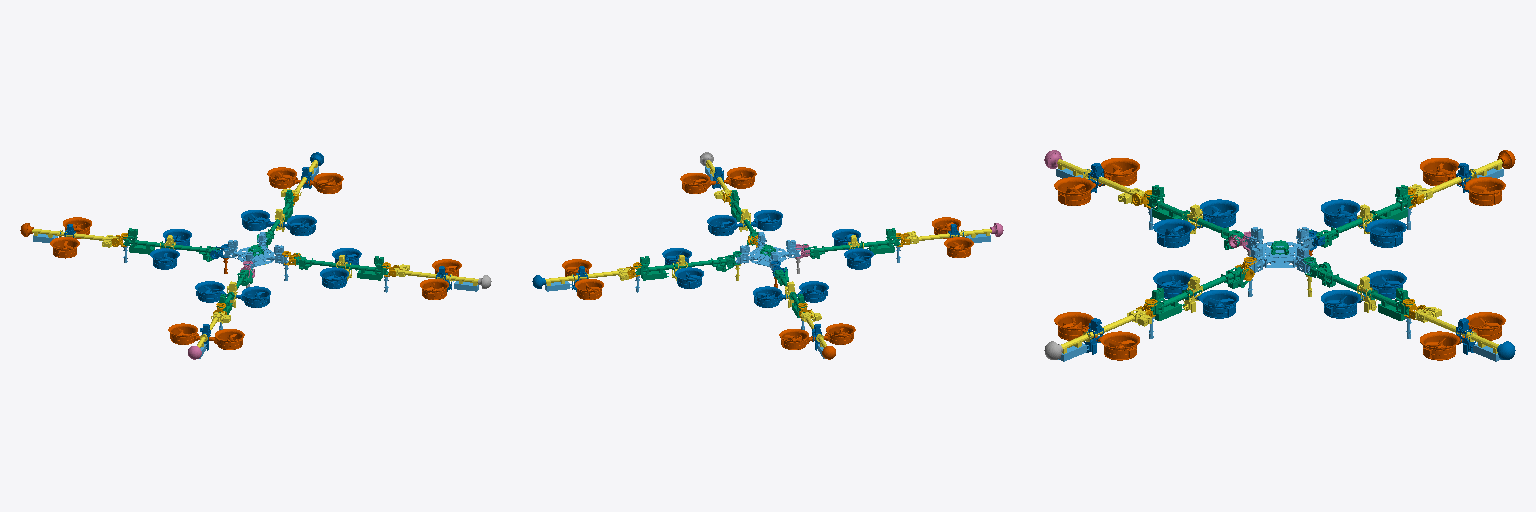
--- What the picture shows (computed from the rendered views, not written in the file) ---
3 views of the same robot in one strip: view 1: azimuth 30°, elevation 25°; view 2: azimuth 150°, elevation 25°; view 3: azimuth 270°, elevation 25° (orthographic).
Model spidar with 80 links and 79 joints (16 revolute, 24 continuous, 39 fixed), rooted at root, posed every joint at zero.
Visible links, largest first — view 1: gimbal2_pitch_module, gimbal1_pitch_module, gimbal6_pitch_module, gimbal5_pitch_module, center_link, gimbal4_pitch_module, gimbal7_pitch_module, gimbal3_pitch_module, gimbal8_pitch_module, link3, link7; view 2: gimbal8_pitch_module, gimbal7_pitch_module, gimbal4_pitch_module, gimbal3_pitch_module, center_link, gimbal6_pitch_module, gimbal1_pitch_module, gimbal5_pitch_module, gimbal2_pitch_module, link1, link5; view 3: gimbal3_pitch_module, gimbal5_pitch_module, gimbal4_pitch_module, gimbal6_pitch_module, center_link, gimbal2_pitch_module, gimbal8_pitch_module, gimbal1_pitch_module, gimbal7_pitch_module, link7, link1, link5 (+5 smaller).
Boxes of the visible links, x1=… form: gimbal2_pitch_module: x1=267, y1=167, x2=343, y2=193; gimbal1_pitch_module: x1=241, y1=210, x2=316, y2=235; gimbal6_pitch_module: x1=168, y1=323, x2=244, y2=349; gimbal5_pitch_module: x1=195, y1=281, x2=270, y2=307; center_link: x1=222, y1=232, x2=288, y2=268; gimbal4_pitch_module: x1=50, y1=217, x2=91, y2=258; gimbal7_pitch_module: x1=320, y1=248, x2=361, y2=288; gimbal3_pitch_module: x1=150, y1=229, x2=191, y2=269; gimbal8_pitch_module: x1=420, y1=259, x2=461, y2=299; link3: x1=123, y1=228, x2=219, y2=261; link7: x1=293, y1=253, x2=388, y2=274; gimbal8_pitch_module: x1=680, y1=167, x2=756, y2=193; gimbal7_pitch_module: x1=707, y1=210, x2=782, y2=235; gimbal4_pitch_module: x1=779, y1=323, x2=855, y2=349; gimbal3_pitch_module: x1=753, y1=281, x2=828, y2=307; center_link: x1=735, y1=232, x2=801, y2=270; gimbal6_pitch_module: x1=932, y1=217, x2=973, y2=257; gimbal1_pitch_module: x1=662, y1=248, x2=703, y2=288; gimbal5_pitch_module: x1=832, y1=229, x2=873, y2=269; gimbal2_pitch_module: x1=562, y1=259, x2=603, y2=299; link1: x1=635, y1=256, x2=732, y2=274; link5: x1=802, y1=228, x2=900, y2=258; gimbal3_pitch_module: x1=1321, y1=199, x2=1406, y2=247; gimbal5_pitch_module: x1=1153, y1=199, x2=1238, y2=247; gimbal4_pitch_module: x1=1420, y1=158, x2=1505, y2=205; gimbal6_pitch_module: x1=1054, y1=158, x2=1139, y2=205; center_link: x1=1245, y1=227, x2=1315, y2=273; gimbal2_pitch_module: x1=1420, y1=312, x2=1505, y2=360; gimbal8_pitch_module: x1=1054, y1=312, x2=1139, y2=360; gimbal1_pitch_module: x1=1321, y1=270, x2=1406, y2=318; gimbal7_pitch_module: x1=1153, y1=270, x2=1238, y2=318; link7: x1=1145, y1=267, x2=1248, y2=314; link1: x1=1313, y1=263, x2=1414, y2=315; link5: x1=1146, y1=185, x2=1245, y2=249.
Bounding box of the posed robot: 1.93 × 1.93 × 0.2101 m (x, y, z).
54 mesh visuals loaded from 11 distinct referenced files (11 binary STL).

robot.urdf — spidar:
<?xml version="1.0" ?>
<robot name="spidar">
   ### [N]
    ### [N]
    ### [N]
  <baselink name="fc"/>
  <thrust_link name="thrust"/>
  <m_f_rate value="0"/>
  #### CENTER LINK ####
  #### LINK ####
    #### dummy root link for KDL ####
  <link name="root">
    <inertial>
      <mass value="0.00001"/>
      <origin rpy="0 0 0" xyz="0 0 0"/>
      <inertia ixx="0.000001" ixy="0.0" ixz="0.0" iyy="0.000001" iyz="0.0" izz="0.000001"/>
    </inertial>
  </link>
  <joint name="root_joint" type="fixed">
    <parent link="root"/>
    <child link="center_link"/>
    <origin rpy="0 0 0" xyz="0 0 0"/>
    <axis xyz="0 0 1"/>
  </joint>
    #### link ####
  <link name="center_link">
    <inertial>
      <mass value="1.1780349"/>
      <origin rpy="0 0 0" xyz="0.0 0.0 0.027"/>
      <inertia ixx="0.009512" ixy="0.000000" ixz="0.000000" iyy="0.009512" iyz="0.000000" izz="0.017150"/>
    </inertial>
    <visual>
      <origin rpy="0 0 0" xyz="0 0 0"/>
      <geometry>
        <mesh filename="center_link.stl"/>
      </geometry>
    </visual>
    <collision name="center_link">
      <origin rpy="0 0 0" xyz="0 0 0"/>
      <geometry>
        <mesh filename="center_link.stl"/>
      </geometry>
    </collision>
  </link>
  <gazebo reference="center_link">
    <mu1>0.2</mu1>
    <mu2>0.2</mu2>
  </gazebo>
  <gazebo reference="center_link">
    <dampingFactor>0.00</dampingFactor>
  </gazebo>
  <link name="joint_junction_link1">
    <inertial>
      <mass value="0.103"/>
      <origin rpy="0 0 0" xyz="0.028 0.007 0.003"/>
      <inertia ixx="0.000087" ixy="0.000016" ixz="-0.000010" iyy="0.000087" iyz="-0.000002" izz="0.000096"/>
    </inertial>
    <visual>
      <origin rpy="0 0 0" xyz="0 0 0"/>
      <geometry>
        <mesh filename="joint_junction_link_large_pitch_pulley.stl"/>
      </geometry>
    </visual>
    <collision name="joint_junction_link1">
      <origin rpy="0 0 0" xyz="0 0 0"/>
      <geometry>
        <mesh filename="joint_junction_link_large_pitch_pulley.stl"/>
      </geometry>
    </collision>
  </link>
  <gazebo reference="joint_junction_link1">
    <mu1>0.2</mu1>
    <mu2>0.2</mu2>
  </gazebo>
  <gazebo reference="joint_junction_link1">
    <dampingFactor>0.00</dampingFactor>
  </gazebo>
  <joint name="joint1_pitch" type="revolute">
    <limit effort="6.6" lower="-1.9107963267948966" upper="1.9107963267948966" velocity="0.1"/>
    <parent link="joint_junction_link1"/>
    <child link="link1"/>
    <origin rpy="0 0 0" xyz="0.0515 0.0 0.0"/>
    <axis xyz="0 1 0"/>
    <dynamics damping="0.9" friction="0.0"/>
  </joint>
  <joint name="joint_junction_link12joint_junction_leg1" type="fixed">
    <parent link="joint_junction_link1"/>
    <child link="joint_junction_leg1"/>
    <origin rpy="0 0 1.5707963267948966" xyz="0 0 -0.0283"/>
  </joint>
  <link name="joint_junction_leg1">
    <inertial>
      <mass value="0.027"/>
      <origin rpy="0 0 0" xyz="0 0 -0.046"/>
      <inertia ixx="0.000029" ixy="0.000000" ixz="0.000000" iyy="0.000029" iyz="0.000000" izz="0.000002"/>
    </inertial>
    <visual>
      <geometry>
        <mesh filename="long_leg.stl"/>
      </geometry>
    </visual>
    <collision name="joint_junction_leg1">
      <geometry>
        <mesh filename="long_leg.stl"/>
      </geometry>
    </collision>
  </link>
  <gazebo reference="joint_junction_leg1">
    <mu1>100</mu1>
    <mu2>50</mu2>
  </gazebo>
  <link name="joint_junction_link3">
    <inertial>
      <mass value="0.103"/>
      <origin rpy="0 0 0" xyz="0.028 0.007 0.003"/>
      <inertia ixx="0.000087" ixy="0.000016" ixz="-0.000010" iyy="0.000087" iyz="-0.000002" izz="0.000096"/>
    </inertial>
    <visual>
      <origin rpy="0 0 0" xyz="0 0 0"/>
      <geometry>
        <mesh filename="joint_junction_link_large_pitch_pulley.stl"/>
      </geometry>
    </visual>
    <collision name="joint_junction_link3">
      <origin rpy="0 0 0" xyz="0 0 0"/>
      <geometry>
        <mesh filename="joint_junction_link_large_pitch_pulley.stl"/>
      </geometry>
    </collision>
  </link>
  <gazebo reference="joint_junction_link3">
    <mu1>0.2</mu1>
    <mu2>0.2</mu2>
  </gazebo>
  <gazebo reference="joint_junction_link3">
    <dampingFactor>0.00</dampingFactor>
  </gazebo>
  <joint name="joint3_pitch" type="revolute">
    <limit effort="6.6" lower="-1.9107963267948966" upper="1.9107963267948966" velocity="0.1"/>
    <parent link="joint_junction_link3"/>
    <child link="link3"/>
    <origin rpy="0 0 0" xyz="0.0515 0.0 0.0"/>
    <axis xyz="0 1 0"/>
    <dynamics damping="0.9" friction="0.0"/>
  </joint>
  <joint name="joint_junction_link32joint_junction_leg3" type="fixed">
    <parent link="joint_junction_link3"/>
    <child link="joint_junction_leg3"/>
    <origin rpy="0 0 1.5707963267948966" xyz="0 0 -0.0283"/>
  </joint>
  <link name="joint_junction_leg3">
    <inertial>
      <mass value="0.027"/>
      <origin rpy="0 0 0" xyz="0 0 -0.046"/>
      <inertia ixx="0.000029" ixy="0.000000" ixz="0.000000" iyy="0.000029" iyz="0.000000" izz="0.000002"/>
    </inertial>
    <visual>
      <geometry>
        <mesh filename="long_leg.stl"/>
      </geometry>
    </visual>
    <collision name="joint_junction_leg3">
      <geometry>
        <mesh filename="long_leg.stl"/>
      </geometry>
    </collision>
  </link>
  <gazebo reference="joint_junction_leg3">
    <mu1>100</mu1>
    <mu2>50</mu2>
  </gazebo>
  <link name="joint_junction_link5">
    <inertial>
      <mass value="0.103"/>
      <origin rpy="0 0 0" xyz="0.028 0.007 0.003"/>
      <inertia ixx="0.000087" ixy="0.000016" ixz="-0.000010" iyy="0.000087" iyz="-0.000002" izz="0.000096"/>
    </inertial>
    <visual>
      <origin rpy="0 0 0" xyz="0 0 0"/>
      <geometry>
        <mesh filename="joint_junction_link_large_pitch_pulley.stl"/>
      </geometry>
    </visual>
    <collision name="joint_junction_link5">
      <origin rpy="0 0 0" xyz="0 0 0"/>
      <geometry>
        <mesh filename="joint_junction_link_large_pitch_pulley.stl"/>
      </geometry>
    </collision>
  </link>
  <gazebo reference="joint_junction_link5">
    <mu1>0.2</mu1>
    <mu2>0.2</mu2>
  </gazebo>
  <gazebo reference="joint_junction_link5">
    <dampingFactor>0.00</dampingFactor>
  </gazebo>
  <joint name="joint5_pitch" type="revolute">
    <limit effort="6.6" lower="-1.9107963267948966" upper="1.9107963267948966" velocity="0.1"/>
    <parent link="joint_junction_link5"/>
    <child link="link5"/>
    <origin rpy="0 0 0" xyz="0.0515 0.0 0.0"/>
    <axis xyz="0 1 0"/>
    <dynamics damping="0.9" friction="0.0"/>
  </joint>
  <joint name="joint_junction_link52joint_junction_leg5" type="fixed">
    <parent link="joint_junction_link5"/>
    <child link="joint_junction_leg5"/>
    <origin rpy="0 0 1.5707963267948966" xyz="0 0 -0.0283"/>
  </joint>
  <link name="joint_junction_leg5">
    <inertial>
      <mass value="0.027"/>
      <origin rpy="0 0 0" xyz="0 0 -0.046"/>
      <inertia ixx="0.000029" ixy="0.000000" ixz="0.000000" iyy="0.000029" iyz="0.000000" izz="0.000002"/>
    </inertial>
    <visual>
      <geometry>
        <mesh filename="long_leg.stl"/>
      </geometry>
    </visual>
    <collision name="joint_junction_leg5">
      <geometry>
        <mesh filename="long_leg.stl"/>
      </geometry>
    </collision>
  </link>
  <gazebo reference="joint_junction_leg5">
    <mu1>100</mu1>
    <mu2>50</mu2>
  </gazebo>
  <link name="joint_junction_link7">
    <inertial>
      <mass value="0.103"/>
      <origin rpy="0 0 0" xyz="0.028 0.007 0.003"/>
      <inertia ixx="0.000087" ixy="0.000016" ixz="-0.000010" iyy="0.000087" iyz="-0.000002" izz="0.000096"/>
    </inertial>
    <visual>
      <origin rpy="0 0 0" xyz="0 0 0"/>
      <geometry>
        <mesh filename="joint_junction_link_large_pitch_pulley.stl"/>
      </geometry>
    </visual>
    <collision name="joint_junction_link7">
      <origin rpy="0 0 0" xyz="0 0 0"/>
      <geometry>
        <mesh filename="joint_junction_link_large_pitch_pulley.stl"/>
      </geometry>
    </collision>
  </link>
  <gazebo reference="joint_junction_link7">
    <mu1>0.2</mu1>
    <mu2>0.2</mu2>
  </gazebo>
  <gazebo reference="joint_junction_link7">
    <dampingFactor>0.00</dampingFactor>
  </gazebo>
  <joint name="joint7_pitch" type="revolute">
    <limit effort="6.6" lower="-1.9107963267948966" upper="1.9107963267948966" velocity="0.1"/>
    <parent link="joint_junction_link7"/>
    <child link="link7"/>
    <origin rpy="0 0 0" xyz="0.0515 0.0 0.0"/>
    <axis xyz="0 1 0"/>
    <dynamics damping="0.9" friction="0.0"/>
  </joint>
  <joint name="joint_junction_link72joint_junction_leg7" type="fixed">
    <parent link="joint_junction_link7"/>
    <child link="joint_junction_leg7"/>
    <origin rpy="0 0 1.5707963267948966" xyz="0 0 -0.0283"/>
  </joint>
  <link name="joint_junction_leg7">
    <inertial>
      <mass value="0.027"/>
      <origin rpy="0 0 0" xyz="0 0 -0.046"/>
      <inertia ixx="0.000029" ixy="0.000000" ixz="0.000000" iyy="0.000029" iyz="0.000000" izz="0.000002"/>
    </inertial>
    <visual>
      <geometry>
        <mesh filename="long_leg.stl"/>
      </geometry>
    </visual>
    <collision name="joint_junction_leg7">
      <geometry>
        <mesh filename="long_leg.stl"/>
      </geometry>
    </collision>
  </link>
  <gazebo reference="joint_junction_leg7">
    <mu1>100</mu1>
    <mu2>50</mu2>
  </gazebo>
    #### joints ####
  <joint name="joint1_yaw" type="revolute">
    <limit effort="6.6" lower="-1.9107963267948966" upper="1.9107963267948966" velocity="0.1"/>
    <parent link="center_link"/>
    <child link="joint_junction_link1"/>
    <origin rpy="0 0 0.7853981633974483" xyz="0.12233 0.12233 -0.0155"/>
    <axis xyz="0 0 1"/>
    <dynamics damping="0.9" friction="0.0"/>
  </joint>
  <joint name="joint3_yaw" type="revolute">
    <limit effort="6.6" lower="-1.9107963267948966" upper="1.9107963267948966" velocity="0.1"/>
    <parent link="center_link"/>
    <child link="joint_junction_link3"/>
    <origin rpy="0 0 2.356194490192345" xyz="-0.12233 0.12233 -0.0155"/>
    <axis xyz="0 0 1"/>
    <dynamics damping="0.9" friction="0.0"/>
  </joint>
  <joint name="joint5_yaw" type="revolute">
    <limit effort="6.6" lower="-1.9107963267948966" upper="1.9107963267948966" velocity="0.1"/>
    <parent link="center_link"/>
    <child link="joint_junction_link5"/>
    <origin rpy="0 0 3.9269908169872414" xyz="-0.12233 -0.12233 -0.0155"/>
    <axis xyz="0 0 1"/>
    <dynamics damping="0.9" friction="0.0"/>
  </joint>
  <joint name="joint7_yaw" type="revolute">
    <limit effort="6.6" lower="-1.9107963267948966" upper="1.9107963267948966" velocity="0.1"/>
    <parent link="center_link"/>
    <child link="joint_junction_link7"/>
    <origin rpy="0 0 5.497787143782138" xyz="0.12233 -0.12233 -0.0155"/>
    <axis xyz="0 0 1"/>
    <dynamics damping="0.9" friction="0.0"/>
  </joint>
    #### hardware interface ####
  <link name="link1">
    <inertial>
      <mass value="0.523"/>
      <origin rpy="0 0 0" xyz="0.257 -0.002 0.004"/>
      <inertia ixx="0.000519" ixy="-0.000246" ixz="0.001893" iyy="0.021290" iyz="-0.000044" izz="0.020931"/>
    </inertial>
    <visual>
      <origin rpy="0 0 0" xyz="0 0 0"/>
      <geometry>
        <mesh filename="general_link.stl"/>
      </geometry>
    </visual>
    <collision name="link1">
      <origin rpy="0 0 0" xyz="0 0 0"/>
      <geometry>
        <mesh filename="general_link.stl"/>
      </geometry>
    </collision>
  </link>
  <gazebo reference="link1">
    <mu1>0.2</mu1>
    <mu2>0.2</mu2>
  </gazebo>
  <gazebo reference="link1">
    <dampingFactor>0.00</dampingFactor>
  </gazebo>
    #### gimbal roll ####
  <link name="gimbal1_roll_module">
    <inertial>
      <mass value="0.275"/>
      <origin rpy="0 0 0" xyz="0.0145839 -0.0007152 -0.0219046"/>
      <inertia ixx="0.000456" ixy="0.000003" ixz="-0.000125" iyy="0.000504" iyz="-0.000009" izz="0.000157"/>
    </inertial>
    <visual>
      <origin rpy="0 0 0" xyz="0 0 0"/>
      <geometry>
        <mesh filename="roll_link.stl"/>
      </geometry>
    </visual>
    <collision name="gimbal1_roll_module">
      <origin rpy="0 0 0" xyz="0 0 0"/>
      <geometry>
        <mesh filename="roll_link.stl"/>
      </geometry>
    </collision>
  </link>
  <gazebo reference="gimbal1_roll_module">
    <mu1>0.2</mu1>
    <mu2>0.2</mu2>
  </gazebo>
  <gazebo reference="gimbal1_roll_module">
    <dampingFactor>0.00</dampingFactor>
  </gazebo>
    #### gimbal pitch ####
  <link name="gimbal1_pitch_module">
    <inertial>
      <mass value="0.434"/>
      <origin rpy="0 0 0" xyz="0.0000111 -0.0015087 -0.0010901"/>
      <inertia ixx="0.007595" ixy="0.000000" ixz="0.000000" iyy="0.000401" iyz="0.000010" izz="0.007781"/>
    </inertial>
    <visual>
      <origin rpy="0 0 0" xyz="0 0 0"/>
      <geometry>
        <mesh filename="pitch_link.stl"/>
      </geometry>
    </visual>
    <collision name="gimbal1_pitch_module">
      <origin rpy="0 0 0" xyz="0 0 0"/>
      <geometry>
        <mesh filename="pitch_link.stl"/>
      </geometry>
    </collision>
  </link>
  <gazebo reference="gimbal1_pitch_module">
    <mu1>0.2</mu1>
    <mu2>0.2</mu2>
  </gazebo>
  <gazebo reference="gimbal1_pitch_module">
    <dampingFactor>0.00</dampingFactor>
  </gazebo>
    #### thrust link (virtual) ####
  <link name="thrust1">
    <inertial>
      <origin rpy="0 0 0" xyz="0 0 0"/>
      <mass value="0.00001"/>
      <inertia ixx="0.000001" ixy="0.0" ixz="0.0" iyy="0.000001" iyz="0.0" izz="0.000001"/>
    </inertial>
  </link>
  <gazebo reference="thrust1">
    <dampingFactor>0.00</dampingFactor>
  </gazebo>
    #### special part of duct fun (temporary)####
  <joint name="edf1_left_mount" type="fixed">
    <child link="edf1_left"/>
    <parent link="gimbal1_pitch_module"/>
    <origin rpy="0 0 0" xyz="0 0.1335 0 "/>
    <axis xyz="0 0 1"/>
  </joint>
  <link name="edf1_left">
    <inertial>
      <origin rpy="0 0 0" xyz="0 0 0"/>
      <mass value="0.00001"/>
      <inertia ixx="0.000001" ixy="0.0" ixz="0.0" iyy="0.000001" iyz="0.0" izz="0.000002"/>
    </inertial>
  </link>
  <joint name="edf1_right_mount" type="fixed">
    <child link="edf1_right"/>
    <parent link="gimbal1_pitch_module"/>
    <origin rpy="0 0 0" xyz="0 -0.1335 0 "/>
    <axis xyz="0 0 1"/>
  </joint>
  <link name="edf1_right">
    <inertial>
      <origin rpy="0 0 0" xyz="0 0 0"/>
      <mass value="0.00001"/>
      <inertia ixx="0.000001" ixy="0.0" ixz="0.0" iyy="0.000001" iyz="0.0" izz="0.000002"/>
    </inertial>
  </link>
    #### joint junction ####
  <link name="joint_junction_link2">
    <inertial>
      <mass value="0.095"/>
      <origin rpy="0 0 0" xyz="0.026 0.004 0.004"/>
      <inertia ixx="0.000074" ixy="0.000009" ixz="-0.000009" iyy="0.000079" iyz="-0.000001" izz="0.000079"/>
    </inertial>
    <visual>
      <origin rpy="0 0 0" xyz="0 0 0"/>
      <geometry>
        <mesh filename="joint_junction_link.stl"/>
      </geometry>
    </visual>
    <collision name="joint_junction_link2">
      <origin rpy="0 0 0" xyz="0 0 0"/>
      <geometry>
        <mesh filename="joint_junction_link.stl"/>
      </geometry>
    </collision>
  </link>
  <gazebo reference="joint_junction_link2">
    <mu1>0.2</mu1>
    <mu2>0.2</mu2>
  </gazebo>
  <gazebo reference="joint_junction_link2">
    <dampingFactor>0.00</dampingFactor>
  </gazebo>
  <joint name="joint2_pitch" type="revolute">
    <limit effort="6.6" lower="-1.9107963267948966" upper="1.9107963267948966" velocity="0.1"/>
    <parent link="joint_junction_link2"/>
    <child link="link2"/>
    <origin rpy="0 0 0" xyz="0.0515 0.0 0.0"/>
    <axis xyz="0 1 0"/>
    <dynamics damping="0.9" friction="0.0"/>
  </joint>
  <joint name="joint_junction_link22joint_junction_leg2" type="fixed">
    <parent link="joint_junction_link2"/>
    <child link="joint_junction_leg2"/>
    <origin rpy="0 0 1.5707963267948966" xyz="0 0 -0.0283"/>
  </joint>
  <link name="joint_junction_leg2">
    <inertial>
      <mass value="0.027"/>
      <origin rpy="0 0 0" xyz="0 0 -0.046"/>
      <inertia ixx="0.000029" ixy="0.000000" ixz="0.000000" iyy="0.000029" iyz="0.000000" izz="0.000002"/>
    </inertial>
    <visual>
      <geometry>
        <mesh filename="long_leg.stl"/>
      </geometry>
    </visual>
    <collision name="joint_junction_leg2">
      <geometry>
        <mesh filename="long_leg.stl"/>
      </geometry>
    </collision>
  </link>
  <gazebo reference="joint_junction_leg2">
    <mu1>100</mu1>
    <mu2>50</mu2>
  </gazebo>
    #### joints ####
    #### link joint ####
  <joint name="joint2_yaw" type="revolute">
    <limit effort="6.6" lower="-1.9107963267948966" upper="1.9107963267948966" velocity="0.1"/>
    <parent link="link1"/>
    <child link="joint_junction_link2"/>
    <origin rpy="0 0 0" xyz="0.523 0 0"/>
    <axis xyz="0 0 1"/>
    <dynamics damping="0.9" friction="0.0"/>
  </joint>
    #### gimbal joint ####
  <joint name="gimbal1_roll" type="continuous">
    <limit effort="1.5" lower="-18.84955592153876" upper="18.84955592153876" velocity="10.0"/>
    <parent link="link1"/>
    <child link="gimbal1_roll_module"/>
    <origin rpy="0 0 0" xyz="0.268 0.0 0.0"/>
    <axis xyz="1 0 0"/>
    <dynamics damping="0.1" friction="0.0"/>
  </joint>
  <joint name="gimbal1_pitch" type="continuous">
    <limit effort="1.5" lower="-18.84955592153876" upper="18.84955592153876" velocity="10.0"/>
    <parent link="gimbal1_roll_module"/>
    <child link="gimbal1_pitch_module"/>
    <origin rpy="0 0 0" xyz="-0.0065 0.0 -0.027"/>
    <axis xyz="0 1 0"/>
    <dynamics damping="0.1" friction="0.0"/>
  </joint>
    #### rotor joint (virtual) ####
  <joint name="rotor1" type="continuous">
    <limit effort="100.0" lower="0" upper="36" velocity="0.5"/>
    <parent link="gimbal1_pitch_module"/>
    <child link="thrust1"/>
    <origin rpy="0 0 0" xyz="0 0 0"/>
    <axis xyz="0 0 1"/>
  </joint>
    #### battery ####
  <joint name="link12bat1" type="fixed">
    <parent link="link1"/>
    <child link="bat1"/>
    <origin rpy="-1.5707963267948966 0 0" xyz="0.430 0.0 -0.039"/>
  </joint>
  <link name="bat1">
    <inertial>
      <mass value="0.417"/>
      <origin rpy="0 0 0" xyz="-0.001 0.0 0.0"/>
      <inertia ixx="0.000099" ixy="0.000000" ixz="-0.000001" iyy="0.000700" iyz="0.000000" izz="0.000673"/>
    </inertial>
    <visual>
      <geometry>
        <mesh filename="ZIPPY-3000-25C-6S.stl"/>
      </geometry>
    </visual>
    <collision name="bat1">
      <geometry>
        <mesh filename="ZIPPY-3000-25C-6S.stl"/>
      </geometry>
    </collision>
  </link>
    #### end leg ####
    #### hardware interface ####
  <link name="link2">
    <inertial>
      <mass value="0.347"/>
      <origin rpy="0 0 0" xyz="0.157 0.015 0"/>
      <inertia ixx="0.000276" ixy="-0.000606" ixz="-0.000031" iyy="0.008551" iyz="0.000001" izz="0.008772"/>
    </inertial>
    <visual>
      <origin rpy="0 0 0" xyz="0 0 0"/>
      <geometry>
        <mesh filename="end_link.stl"/>
      </geometry>
    </visual>
    <collision name="link2">
      <origin rpy="0 0 0" xyz="0 0 0"/>
      <geometry>
        <mesh filename="end_link.stl"/>
      </geometry>
    </collision>
  </link>
  <gazebo reference="link2">
    <mu1>0.2</mu1>
    <mu2>0.2</mu2>
  </gazebo>
  <gazebo reference="link2">
    <dampingFactor>0.00</dampingFactor>
  </gazebo>
    #### gimbal roll ####
  <link name="gimbal2_roll_module">
    <inertial>
      <mass value="0.275"/>
      <origin rpy="0 0 0" xyz="0.0145839 -0.0007152 -0.0219046"/>
      <inertia ixx="0.000456" ixy="0.000003" ixz="-0.000125" iyy="0.000504" iyz="-0.000009" izz="0.000157"/>
    </inertial>
    <visual>
      <origin rpy="0 0 0" xyz="0 0 0"/>
      <geometry>
        <mesh filename="roll_link.stl"/>
      </geometry>
    </visual>
    <collision name="gimbal2_roll_module">
      <origin rpy="0 0 0" xyz="0 0 0"/>
      <geometry>
        <mesh filename="roll_link.stl"/>
      </geometry>
    </collision>
  </link>
  <gazebo reference="gimbal2_roll_module">
    <mu1>0.2</mu1>
    <mu2>0.2</mu2>
  </gazebo>
  <gazebo reference="gimbal2_roll_module">
    <dampingFactor>0.00</dampingFactor>
  </gazebo>
    #### gimbal pitch ####
  <link name="gimbal2_pitch_module">
    <inertial>
      <mass value="0.434"/>
      <origin rpy="0 0 0" xyz="0.0000111 -0.0015087 -0.0010901"/>
      <inertia ixx="0.007595" ixy="0.000000" ixz="0.000000" iyy="0.000401" iyz="0.000010" izz="0.007781"/>
    </inertial>
    <visual>
      <origin rpy="0 0 0" xyz="0 0 0"/>
      <geometry>
        <mesh filename="pitch_link.stl"/>
      </geometry>
    </visual>
    <collision name="gimbal2_pitch_module">
      <origin rpy="0 0 0" xyz="0 0 0"/>
      <geometry>
        <mesh filename="pitch_link.stl"/>
      </geometry>
    </collision>
  </link>
  <gazebo reference="gimbal2_pitch_module">
    <mu1>0.2</mu1>
    <mu2>0.2</mu2>
  </gazebo>
  <gazebo reference="gimbal2_pitch_module">
    <dampingFactor>0.00</dampingFactor>
  </gazebo>
    #### thrust link (virtual) ####
  <link name="thrust2">
    <inertial>
      <origin rpy="0 0 0" xyz="0 0 0"/>
      <mass value="0.00001"/>
      <inertia ixx="0.000001" ixy="0.0" ixz="0.0" iyy="0.000001" iyz="0.0" izz="0.000001"/>
    </inertial>
  </link>
  <gazebo reference="thrust2">
    <dampingFactor>0.00</dampingFactor>
  </gazebo>
    #### special part of duct fun (temporary)####
  <joint name="edf2_left_mount" type="fixed">
    <child link="edf2_left"/>
    <parent link="gimbal2_pitch_module"/>
    <origin rpy="0 0 0" xyz="0 0.1335 0 "/>
    <axis xyz="0 0 1"/>
  </joint>
  <link name="edf2_left">
    <inertial>
      <origin rpy="0 0 0" xyz="0 0 0"/>
      <mass value="0.00001"/>
      <inertia ixx="0.000001" ixy="0.0" ixz="0.0" iyy="0.000001" iyz="0.0" izz="0.000002"/>
    </inertial>
  </link>
  <joint name="edf2_right_mount" type="fixed">
    <child link="edf2_right"/>
    <parent link="gimbal2_pitch_module"/>
    <origin rpy="0 0 0" xyz="0 -0.1335 0 "/>
    <axis xyz="0 0 1"/>
  </joint>
  <link name="edf2_right">
    <inertial>
      <origin rpy="0 0 0" xyz="0 0 0"/>
      <mass value="0.00001"/>
      <inertia ixx="0.000001" ixy="0.0" ixz="0.0" iyy="0.000001" iyz="0.0" izz="0.000002"/>
    </inertial>
  </link>
    #### joint junction ####
    #### joints ####
    #### link joint ####
    #### gimbal joint ####
  <joint name="gimbal2_roll" type="continuous">
    <limit effort="1.5" lower="-18.84955592153876" upper="18.84955592153876" velocity="10.0"/>
    <parent link="link2"/>
    <child link="gimbal2_roll_module"/>
    <origin rpy="0 0 0" xyz="0.268 0.0 0.0"/>
    <axis xyz="1 0 0"/>
    <dynamics damping="0.1" friction="0.0"/>
  </joint>
  <joint name="gimbal2_pitch" type="continuous">
    <limit effort="1.5" lower="-18.84955592153876" upper="18.84955592153876" velocity="10.0"/>
    <parent link="gimbal2_roll_module"/>
    <child link="gimbal2_pitch_module"/>
    <origin rpy="0 0 0" xyz="-0.0065 0.0 -0.027"/>
    <axis xyz="0 1 0"/>
    <dynamics damping="0.1" friction="0.0"/>
  </joint>
    #### rotor joint (virtual) ####
  <joint name="rotor2" type="continuous">
    <limit effort="100.0" lower="0" upper="36" velocity="0.5"/>
    <parent link="gimbal2_pitch_module"/>
    <child link="thrust2"/>
    <origin rpy="0 0 0" xyz="0 0 0"/>
    <axis xyz="0 0 1"/>
  </joint>
    #### battery ####
  <joint name="link22bat2" type="fixed">
    <parent link="link2"/>
    <child link="bat2"/>
    <origin rpy="-1.5707963267948966 0 0" xyz="0.410 0.0 -0.039"/>
  </joint>
  <link name="bat2">
    <inertial>
      <mass value="0.417"/>
      <origin rpy="0 0 0" xyz="-0.001 0.0 0.0"/>
      <inertia ixx="0.000099" ixy="0.000000" ixz="-0.000001" iyy="0.000700" iyz="0.000000" izz="0.000673"/>
    </inertial>
    <visual>
      <geometry>
        <mesh filename="ZIPPY-3000-25C-6S.stl"/>
      </geometry>
    </visual>
    <collision name="bat2">
      <geometry>
        <mesh filename="ZIPPY-3000-25C-6S.stl"/>
      </geometry>
    </collision>
  </link>
    #### end leg ####
    #### hardware interface ####
  <link name="link3">
    <inertial>
      <mass value="0.523"/>
      <origin rpy="0 0 0" xyz="0.257 -0.002 0.004"/>
      <inertia ixx="0.000519" ixy="-0.000246" ixz="0.001893" iyy="0.021290" iyz="-0.000044" izz="0.020931"/>
    </inertial>
    <visual>
      <origin rpy="0 0 0" xyz="0 0 0"/>
      <geometry>
        <mesh filename="general_link.stl"/>
      </geometry>
    </visual>
    <collision name="link3">
      <origin rpy="0 0 0" xyz="0 0 0"/>
      <geometry>
        <mesh filename="general_link.stl"/>
      </geometry>
    </collision>
  </link>
  <gazebo reference="link3">
    <mu1>0.2</mu1>
    <mu2>0.2</mu2>
  </gazebo>
  <gazebo reference="link3">
    <dampingFactor>0.00</dampingFactor>
  </gazebo>
    #### gimbal roll ####
  <link name="gimbal3_roll_module">
    <inertial>
      <mass value="0.275"/>
      <origin rpy="0 0 0" xyz="0.0145839 -0.0007152 -0.0219046"/>
      <inertia ixx="0.000456" ixy="0.000003" ixz="-0.000125" iyy="0.000504" iyz="-0.000009" izz="0.000157"/>
    </inertial>
    <visual>
      <origin rpy="0 0 0" xyz="0 0 0"/>
      <geometry>
        <mesh filename="roll_link.stl"/>
      </geometry>
    </visual>
    <collision name="gimbal3_roll_module">
      <origin rpy="0 0 0" xyz="0 0 0"/>
      <geometry>
        <mesh filename="roll_link.stl"/>
      </geometry>
    </collision>
  </link>
  <gazebo reference="gimbal3_roll_module">
    <mu1>0.2</mu1>
    <mu2>0.2</mu2>
  </gazebo>
  <gazebo reference="gimbal3_roll_module">
    <dampingFactor>0.00</dampingFactor>
  </gazebo>
    #### gimbal pitch ####
  <link name="gimbal3_pitch_module">
    <inertial>
      <mass value="0.434"/>
      <origin rpy="0 0 0" xyz="0.0000111 -0.0015087 -0.0010901"/>
      <inertia ixx="0.007595" ixy="0.000000" ixz="0.000000" iyy="0.000401" iyz="0.000010" izz="0.007781"/>
    </inertial>
    <visual>
      <origin rpy="0 0 0" xyz="0 0 0"/>
      <geometry>
        <mesh filename="pitch_link.stl"/>
      </geometry>
    </visual>
    <collision name="gimbal3_pitch_module">
      <origin rpy="0 0 0" xyz="0 0 0"/>
      <geometry>
        <mesh filename="pitch_link.stl"/>
      </geometry>
    </collision>
  </link>
  <gazebo reference="gimbal3_pitch_module">
    <mu1>0.2</mu1>
    <mu2>0.2</mu2>
  </gazebo>
  <gazebo reference="gimbal3_pitch_module">
    <dampingFactor>0.00</dampingFactor>
  </gazebo>
    #### thrust link (virtual) ####
  <link name="thrust3">
    <inertial>
      <origin rpy="0 0 0" xyz="0 0 0"/>
      <mass value="0.00001"/>
      <inertia ixx="0.000001" ixy="0.0" ixz="0.0" iyy="0.000001" iyz="0.0" izz="0.000001"/>
    </inertial>
  </link>
  <gazebo reference="thrust3">
    <dampingFactor>0.00</dampingFactor>
  </gazebo>
    #### special part of duct fun (temporary)####
  <joint name="edf3_left_mount" type="fixed">
    <child link="edf3_left"/>
    <parent link="gimbal3_pitch_module"/>
    <origin rpy="0 0 0" xyz="0 0.1335 0 "/>
    <axis xyz="0 0 1"/>
  </joint>
  <link name="edf3_left">
    <inertial>
      <origin rpy="0 0 0" xyz="0 0 0"/>
      <mass value="0.00001"/>
      <inertia ixx="0.000001" ixy="0.0" ixz="0.0" iyy="0.000001" iyz="0.0" izz="0.000002"/>
    </inertial>
  </link>
  <joint name="edf3_right_mount" type="fixed">
    <child link="edf3_right"/>
    <parent link="gimbal3_pitch_module"/>
    <origin rpy="0 0 0" xyz="0 -0.1335 0 "/>
    <axis xyz="0 0 1"/>
  </joint>
  <link name="edf3_right">
    <inertial>
      <origin rpy="0 0 0" xyz="0 0 0"/>
      <mass value="0.00001"/>
      <inertia ixx="0.000001" ixy="0.0" ixz="0.0" iyy="0.000001" iyz="0.0" izz="0.000002"/>
    </inertial>
  </link>
    #### joint junction ####
  <link name="joint_junction_link4">
    <inertial>
      <mass value="0.095"/>
      <origin rpy="0 0 0" xyz="0.026 0.004 0.004"/>
      <inertia ixx="0.000074" ixy="0.000009" ixz="-0.000009" iyy="0.000079" iyz="-0.000001" izz="0.000079"/>
    </inertial>
    <visual>
      <origin rpy="0 0 0" xyz="0 0 0"/>
      <geometry>
        <mesh filename="joint_junction_link.stl"/>
      </geometry>
    </visual>
    <collision name="joint_junction_link4">
      <origin rpy="0 0 0" xyz="0 0 0"/>
      <geometry>
        <mesh filename="joint_junction_link.stl"/>
      </geometry>
    </collision>
  </link>
  <gazebo reference="joint_junction_link4">
    <mu1>0.2</mu1>
    <mu2>0.2</mu2>
  </gazebo>
  <gazebo reference="joint_junction_link4">
    <dampingFactor>0.00</dampingFactor>
  </gazebo>
  <joint name="joint4_pitch" type="revolute">
    <limit effort="6.6" lower="-1.9107963267948966" upper="1.9107963267948966" velocity="0.1"/>
    <parent link="joint_junction_link4"/>
    <child link="link4"/>
    <origin rpy="0 0 0" xyz="0.0515 0.0 0.0"/>
    <axis xyz="0 1 0"/>
    <dynamics damping="0.9" friction="0.0"/>
  </joint>
  <joint name="joint_junction_link42joint_junction_leg4" type="fixed">
    <parent link="joint_junction_link4"/>
    <child link="joint_junction_leg4"/>
    <origin rpy="0 0 1.5707963267948966" xyz="0 0 -0.0283"/>
  </joint>
  <link name="joint_junction_leg4">
    <inertial>
      <mass value="0.027"/>
      <origin rpy="0 0 0" xyz="0 0 -0.046"/>
      <inertia ixx="0.000029" ixy="0.000000" ixz="0.000000" iyy="0.000029" iyz="0.000000" izz="0.000002"/>
    </inertial>
    <visual>
      <geometry>
        <mesh filename="long_leg.stl"/>
      </geometry>
    </visual>
    <collision name="joint_junction_leg4">
      <geometry>
        <mesh filename="long_leg.stl"/>
      </geometry>
    </collision>
  </link>
  <gazebo reference="joint_junction_leg4">
    <mu1>100</mu1>
    <mu2>50</mu2>
  </gazebo>
    #### joints ####
    #### link joint ####
  <joint name="joint4_yaw" type="revolute">
    <limit effort="6.6" lower="-1.9107963267948966" upper="1.9107963267948966" velocity="0.1"/>
    <parent link="link3"/>
    <child link="joint_junction_link4"/>
    <origin rpy="0 0 0" xyz="0.523 0 0"/>
    <axis xyz="0 0 1"/>
    <dynamics damping="0.9" friction="0.0"/>
  </joint>
    #### gimbal joint ####
  <joint name="gimbal3_roll" type="continuous">
    <limit effort="1.5" lower="-18.84955592153876" upper="18.84955592153876" velocity="10.0"/>
    <parent link="link3"/>
    <child link="gimbal3_roll_module"/>
    <origin rpy="0 0 0" xyz="0.268 0.0 0.0"/>
    <axis xyz="1 0 0"/>
    <dynamics damping="0.1" friction="0.0"/>
  </joint>
  <joint name="gimbal3_pitch" type="continuous">
    <limit effort="1.5" lower="-18.84955592153876" upper="18.84955592153876" velocity="10.0"/>
    <parent link="gimbal3_roll_module"/>
    <child link="gimbal3_pitch_module"/>
    <origin rpy="0 0 0" xyz="-0.0065 0.0 -0.027"/>
    <axis xyz="0 1 0"/>
    <dynamics damping="0.1" friction="0.0"/>
  </joint>
    #### rotor joint (virtual) ####
  <joint name="rotor3" type="continuous">
    <limit effort="100.0" lower="0" upper="36" velocity="0.5"/>
    <parent link="gimbal3_pitch_module"/>
    <child link="thrust3"/>
    <origin rpy="0 0 0" xyz="0 0 0"/>
    <axis xyz="0 0 1"/>
  </joint>
    #### battery ####
  <joint name="link32bat3" type="fixed">
    <parent link="link3"/>
    <child link="bat3"/>
    <origin rpy="-1.5707963267948966 0 0" xyz="0.430 0.0 -0.039"/>
  </joint>
  <link name="bat3">
    <inertial>
      <mass value="0.417"/>
      <origin rpy="0 0 0" xyz="-0.001 0.0 0.0"/>
      <inertia ixx="0.000099" ixy="0.000000" ixz="-0.000001" iyy="0.000700" iyz="0.000000" izz="0.000673"/>
    </inertial>
    <visual>
      <geometry>
        <mesh filename="ZIPPY-3000-25C-6S.stl"/>
      </geometry>
    </visual>
    <collision name="bat3">
      <geometry>
        <mesh filename="ZIPPY-3000-25C-6S.stl"/>
      </geometry>
    </collision>
  </link>
    #### end leg ####
    #### hardware interface ####
  <link name="link4">
    <inertial>
      <mass value="0.347"/>
      <origin rpy="0 0 0" xyz="0.157 0.015 0"/>
      <inertia ixx="0.000276" ixy="-0.000606" ixz="-0.000031" iyy="0.008551" iyz="0.000001" izz="0.008772"/>
    </inertial>
    <visual>
      <origin rpy="0 0 0" xyz="0 0 0"/>
      <geometry>
        <mesh filename="end_link.stl"/>
      </geometry>
    </visual>
    <collision name="link4">
      <origin rpy="0 0 0" xyz="0 0 0"/>
      <geometry>
        <mesh filename="end_link.stl"/>
      </geometry>
    </collision>
  </link>
  <gazebo reference="link4">
    <mu1>0.2</mu1>
    <mu2>0.2</mu2>
  </gazebo>
  <gazebo reference="link4">
    <dampingFactor>0.00</dampingFactor>
  </gazebo>
    #### gimbal roll ####
  <link name="gimbal4_roll_module">
    <inertial>
      <mass value="0.275"/>
      <origin rpy="0 0 0" xyz="0.0145839 -0.0007152 -0.0219046"/>
      <inertia ixx="0.000456" ixy="0.000003" ixz="-0.000125" iyy="0.000504" iyz="-0.000009" izz="0.000157"/>
    </inertial>
    <visual>
      <origin rpy="0 0 0" xyz="0 0 0"/>
      <geometry>
        <mesh filename="roll_link.stl"/>
      </geometry>
    </visual>
    <collision name="gimbal4_roll_module">
      <origin rpy="0 0 0" xyz="0 0 0"/>
      <geometry>
        <mesh filename="roll_link.stl"/>
      </geometry>
    </collision>
  </link>
  <gazebo reference="gimbal4_roll_module">
    <mu1>0.2</mu1>
    <mu2>0.2</mu2>
  </gazebo>
  <gazebo reference="gimbal4_roll_module">
    <dampingFactor>0.00</dampingFactor>
  </gazebo>
    #### gimbal pitch ####
  <link name="gimbal4_pitch_module">
    <inertial>
      <mass value="0.434"/>
      <origin rpy="0 0 0" xyz="0.0000111 -0.0015087 -0.0010901"/>
      <inertia ixx="0.007595" ixy="0.000000" ixz="0.000000" iyy="0.000401" iyz="0.000010" izz="0.007781"/>
    </inertial>
    <visual>
      <origin rpy="0 0 0" xyz="0 0 0"/>
      <geometry>
        <mesh filename="pitch_link.stl"/>
      </geometry>
    </visual>
    <collision name="gimbal4_pitch_module">
      <origin rpy="0 0 0" xyz="0 0 0"/>
      <geometry>
        <mesh filename="pitch_link.stl"/>
      </geometry>
    </collision>
  </link>
  <gazebo reference="gimbal4_pitch_module">
    <mu1>0.2</mu1>
    <mu2>0.2</mu2>
  </gazebo>
  <gazebo reference="gimbal4_pitch_module">
    <dampingFactor>0.00</dampingFactor>
  </gazebo>
    #### thrust link (virtual) ####
  <link name="thrust4">
    <inertial>
      <origin rpy="0 0 0" xyz="0 0 0"/>
      <mass value="0.00001"/>
      <inertia ixx="0.000001" ixy="0.0" ixz="0.0" iyy="0.000001" iyz="0.0" izz="0.000001"/>
    </inertial>
  </link>
  <gazebo reference="thrust4">
    <dampingFactor>0.00</dampingFactor>
  </gazebo>
    #### special part of duct fun (temporary)####
  <joint name="edf4_left_mount" type="fixed">
    <child link="edf4_left"/>
    <parent link="gimbal4_pitch_module"/>
    <origin rpy="0 0 0" xyz="0 0.1335 0 "/>
    <axis xyz="0 0 1"/>
  </joint>
  <link name="edf4_left">
    <inertial>
      <origin rpy="0 0 0" xyz="0 0 0"/>
      <mass value="0.00001"/>
      <inertia ixx="0.000001" ixy="0.0" ixz="0.0" iyy="0.000001" iyz="0.0" izz="0.000002"/>
    </inertial>
  </link>
  <joint name="edf4_right_mount" type="fixed">
    <child link="edf4_right"/>
    <parent link="gimbal4_pitch_module"/>
    <origin rpy="0 0 0" xyz="0 -0.1335 0 "/>
    <axis xyz="0 0 1"/>
  </joint>
  <link name="edf4_right">
    <inertial>
      <origin rpy="0 0 0" xyz="0 0 0"/>
      <mass value="0.00001"/>
      <inertia ixx="0.000001" ixy="0.0" ixz="0.0" iyy="0.000001" iyz="0.0" izz="0.000002"/>
    </inertial>
  </link>
    #### joint junction ####
    #### joints ####
    #### link joint ####
    #### gimbal joint ####
  <joint name="gimbal4_roll" type="continuous">
    <limit effort="1.5" lower="-18.84955592153876" upper="18.84955592153876" velocity="10.0"/>
    <parent link="link4"/>
    <child link="gimbal4_roll_module"/>
    <origin rpy="0 0 0" xyz="0.268 0.0 0.0"/>
    <axis xyz="1 0 0"/>
    <dynamics damping="0.1" friction="0.0"/>
  </joint>
  <joint name="gimbal4_pitch" type="continuous">
    <limit effort="1.5" lower="-18.84955592153876" upper="18.84955592153876" velocity="10.0"/>
    <parent link="gimbal4_roll_module"/>
    <child link="gimbal4_pitch_module"/>
    <origin rpy="0 0 0" xyz="-0.0065 0.0 -0.027"/>
    <axis xyz="0 1 0"/>
    <dynamics damping="0.1" friction="0.0"/>
  </joint>
    #### rotor joint (virtual) ####
  <joint name="rotor4" type="continuous">
    <limit effort="100.0" lower="0" upper="36" velocity="0.5"/>
    <parent link="gimbal4_pitch_module"/>
    <child link="thrust4"/>
    <origin rpy="0 0 0" xyz="0 0 0"/>
    <axis xyz="0 0 1"/>
  </joint>
    #### battery ####
  <joint name="link42bat4" type="fixed">
    <parent link="link4"/>
    <child link="bat4"/>
    <origin rpy="-1.5707963267948966 0 0" xyz="0.410 0.0 -0.039"/>
  </joint>
  <link name="bat4">
    <inertial>
      <mass value="0.417"/>
      <origin rpy="0 0 0" xyz="-0.001 0.0 0.0"/>
      <inertia ixx="0.000099" ixy="0.000000" ixz="-0.000001" iyy="0.000700" iyz="0.000000" izz="0.000673"/>
    </inertial>
    <visual>
      <geometry>
        <mesh filename="ZIPPY-3000-25C-6S.stl"/>
      </geometry>
    </visual>
    <collision name="bat4">
      <geometry>
        <mesh filename="ZIPPY-3000-25C-6S.stl"/>
      </geometry>
    </collision>
  </link>
    #### end leg ####
    #### hardware interface ####
  <link name="link5">
    <inertial>
      <mass value="0.523"/>
      <origin rpy="0 0 0" xyz="0.257 -0.002 0.004"/>
      <inertia ixx="0.000519" ixy="-0.000246" ixz="0.001893" iyy="0.021290" iyz="-0.000044" izz="0.020931"/>
    </inertial>
    <visual>
      <origin rpy="0 0 0" xyz="0 0 0"/>
      <geometry>
        <mesh filename="general_link.stl"/>
      </geometry>
    </visual>
    <collision name="link5">
      <origin rpy="0 0 0" xyz="0 0 0"/>
      <geometry>
        <mesh filename="general_link.stl"/>
      </geometry>
    </collision>
  </link>
  <gazebo reference="link5">
    <mu1>0.2</mu1>
    <mu2>0.2</mu2>
  </gazebo>
  <gazebo reference="link5">
    <dampingFactor>0.00</dampingFactor>
  </gazebo>
    #### gimbal roll ####
  <link name="gimbal5_roll_module">
    <inertial>
      <mass value="0.275"/>
      <origin rpy="0 0 0" xyz="0.0145839 -0.0007152 -0.0219046"/>
      <inertia ixx="0.000456" ixy="0.000003" ixz="-0.000125" iyy="0.000504" iyz="-0.000009" izz="0.000157"/>
    </inertial>
    <visual>
      <origin rpy="0 0 0" xyz="0 0 0"/>
      <geometry>
        <mesh filename="roll_link.stl"/>
      </geometry>
    </visual>
    <collision name="gimbal5_roll_module">
      <origin rpy="0 0 0" xyz="0 0 0"/>
      <geometry>
        <mesh filename="roll_link.stl"/>
      </geometry>
    </collision>
  </link>
  <gazebo reference="gimbal5_roll_module">
    <mu1>0.2</mu1>
    <mu2>0.2</mu2>
  </gazebo>
  <gazebo reference="gimbal5_roll_module">
    <dampingFactor>0.00</dampingFactor>
  </gazebo>
    #### gimbal pitch ####
  <link name="gimbal5_pitch_module">
    <inertial>
      <mass value="0.434"/>
      <origin rpy="0 0 0" xyz="0.0000111 -0.0015087 -0.0010901"/>
      <inertia ixx="0.007595" ixy="0.000000" ixz="0.000000" iyy="0.000401" iyz="0.000010" izz="0.007781"/>
    </inertial>
    <visual>
      <origin rpy="0 0 0" xyz="0 0 0"/>
      <geometry>
        <mesh filename="pitch_link.stl"/>
      </geometry>
    </visual>
    <collision name="gimbal5_pitch_module">
      <origin rpy="0 0 0" xyz="0 0 0"/>
      <geometry>
        <mesh filename="pitch_link.stl"/>
      </geometry>
    </collision>
  </link>
  <gazebo reference="gimbal5_pitch_module">
    <mu1>0.2</mu1>
    <mu2>0.2</mu2>
  </gazebo>
  <gazebo reference="gimbal5_pitch_module">
    <dampingFactor>0.00</dampingFactor>
  </gazebo>
    #### thrust link (virtual) ####
  <link name="thrust5">
    <inertial>
      <origin rpy="0 0 0" xyz="0 0 0"/>
      <mass value="0.00001"/>
      <inertia ixx="0.000001" ixy="0.0" ixz="0.0" iyy="0.000001" iyz="0.0" izz="0.000001"/>
    </inertial>
  </link>
  <gazebo reference="thrust5">
    <dampingFactor>0.00</dampingFactor>
  </gazebo>
    #### special part of duct fun (temporary)####
  <joint name="edf5_left_mount" type="fixed">
    <child link="edf5_left"/>
    <parent link="gimbal5_pitch_module"/>
    <origin rpy="0 0 0" xyz="0 0.1335 0 "/>
    <axis xyz="0 0 1"/>
  </joint>
  <link name="edf5_left">
    <inertial>
      <origin rpy="0 0 0" xyz="0 0 0"/>
      <mass value="0.00001"/>
      <inertia ixx="0.000001" ixy="0.0" ixz="0.0" iyy="0.000001" iyz="0.0" izz="0.000002"/>
    </inertial>
  </link>
  <joint name="edf5_right_mount" type="fixed">
    <child link="edf5_right"/>
    <parent link="gimbal5_pitch_module"/>
    <origin rpy="0 0 0" xyz="0 -0.1335 0 "/>
    <axis xyz="0 0 1"/>
  </joint>
  <link name="edf5_right">
    <inertial>
      <origin rpy="0 0 0" xyz="0 0 0"/>
      <mass value="0.00001"/>
      <inertia ixx="0.000001" ixy="0.0" ixz="0.0" iyy="0.000001" iyz="0.0" izz="0.000002"/>
    </inertial>
  </link>
    #### joint junction ####
  <link name="joint_junction_link6">
    <inertial>
      <mass value="0.095"/>
      <origin rpy="0 0 0" xyz="0.026 0.004 0.004"/>
      <inertia ixx="0.000074" ixy="0.000009" ixz="-0.000009" iyy="0.000079" iyz="-0.000001" izz="0.000079"/>
    </inertial>
    <visual>
      <origin rpy="0 0 0" xyz="0 0 0"/>
      <geometry>
        <mesh filename="joint_junction_link.stl"/>
      </geometry>
    </visual>
    <collision name="joint_junction_link6">
      <origin rpy="0 0 0" xyz="0 0 0"/>
      <geometry>
        <mesh filename="joint_junction_link.stl"/>
      </geometry>
    </collision>
  </link>
  <gazebo reference="joint_junction_link6">
    <mu1>0.2</mu1>
    <mu2>0.2</mu2>
  </gazebo>
  <gazebo reference="joint_junction_link6">
    <dampingFactor>0.00</dampingFactor>
  </gazebo>
  <joint name="joint6_pitch" type="revolute">
    <limit effort="6.6" lower="-1.9107963267948966" upper="1.9107963267948966" velocity="0.1"/>
    <parent link="joint_junction_link6"/>
    <child link="link6"/>
    <origin rpy="0 0 0" xyz="0.0515 0.0 0.0"/>
    <axis xyz="0 1 0"/>
    <dynamics damping="0.9" friction="0.0"/>
  </joint>
  <joint name="joint_junction_link62joint_junction_leg6" type="fixed">
    <parent link="joint_junction_link6"/>
    <child link="joint_junction_leg6"/>
    <origin rpy="0 0 1.5707963267948966" xyz="0 0 -0.0283"/>
  </joint>
  <link name="joint_junction_leg6">
    <inertial>
      <mass value="0.027"/>
      <origin rpy="0 0 0" xyz="0 0 -0.046"/>
      <inertia ixx="0.000029" ixy="0.000000" ixz="0.000000" iyy="0.000029" iyz="0.000000" izz="0.000002"/>
    </inertial>
    <visual>
      <geometry>
        <mesh filename="long_leg.stl"/>
      </geometry>
    </visual>
    <collision name="joint_junction_leg6">
      <geometry>
        <mesh filename="long_leg.stl"/>
      </geometry>
    </collision>
  </link>
  <gazebo reference="joint_junction_leg6">
    <mu1>100</mu1>
    <mu2>50</mu2>
  </gazebo>
    #### joints ####
    #### link joint ####
  <joint name="joint6_yaw" type="revolute">
    <limit effort="6.6" lower="-1.9107963267948966" upper="1.9107963267948966" velocity="0.1"/>
    <parent link="link5"/>
    <child link="joint_junction_link6"/>
    <origin rpy="0 0 0" xyz="0.523 0 0"/>
    <axis xyz="0 0 1"/>
    <dynamics damping="0.9" friction="0.0"/>
  </joint>
    #### gimbal joint ####
  <joint name="gimbal5_roll" type="continuous">
    <limit effort="1.5" lower="-18.84955592153876" upper="18.84955592153876" velocity="10.0"/>
    <parent link="link5"/>
    <child link="gimbal5_roll_module"/>
    <origin rpy="0 0 0" xyz="0.268 0.0 0.0"/>
    <axis xyz="1 0 0"/>
    <dynamics damping="0.1" friction="0.0"/>
  </joint>
  <joint name="gimbal5_pitch" type="continuous">
    <limit effort="1.5" lower="-18.84955592153876" upper="18.84955592153876" velocity="10.0"/>
    <parent link="gimbal5_roll_module"/>
    <child link="gimbal5_pitch_module"/>
    <origin rpy="0 0 0" xyz="-0.0065 0.0 -0.027"/>
    <axis xyz="0 1 0"/>
    <dynamics damping="0.1" friction="0.0"/>
  </joint>
    #### rotor joint (virtual) ####
  <joint name="rotor5" type="continuous">
    <limit effort="100.0" lower="0" upper="36" velocity="0.5"/>
    <parent link="gimbal5_pitch_module"/>
    <child link="thrust5"/>
    <origin rpy="0 0 0" xyz="0 0 0"/>
    <axis xyz="0 0 1"/>
  </joint>
    #### battery ####
  <joint name="link52bat5" type="fixed">
    <parent link="link5"/>
    <child link="bat5"/>
    <origin rpy="-1.5707963267948966 0 0" xyz="0.430 0.0 -0.039"/>
  </joint>
  <link name="bat5">
    <inertial>
      <mass value="0.417"/>
      <origin rpy="0 0 0" xyz="-0.001 0.0 0.0"/>
      <inertia ixx="0.000099" ixy="0.000000" ixz="-0.000001" iyy="0.000700" iyz="0.000000" izz="0.000673"/>
    </inertial>
    <visual>
      <geometry>
        <mesh filename="ZIPPY-3000-25C-6S.stl"/>
      </geometry>
    </visual>
    <collision name="bat5">
      <geometry>
        <mesh filename="ZIPPY-3000-25C-6S.stl"/>
      </geometry>
    </collision>
  </link>
    #### end leg ####
    #### hardware interface ####
  <link name="link6">
    <inertial>
      <mass value="0.347"/>
      <origin rpy="0 0 0" xyz="0.157 0.015 0"/>
      <inertia ixx="0.000276" ixy="-0.000606" ixz="-0.000031" iyy="0.008551" iyz="0.000001" izz="0.008772"/>
    </inertial>
    <visual>
      <origin rpy="0 0 0" xyz="0 0 0"/>
      <geometry>
        <mesh filename="end_link.stl"/>
      </geometry>
    </visual>
    <collision name="link6">
      <origin rpy="0 0 0" xyz="0 0 0"/>
      <geometry>
        <mesh filename="end_link.stl"/>
      </geometry>
    </collision>
  </link>
  <gazebo reference="link6">
    <mu1>0.2</mu1>
    <mu2>0.2</mu2>
  </gazebo>
  <gazebo reference="link6">
    <dampingFactor>0.00</dampingFactor>
  </gazebo>
    #### gimbal roll ####
  <link name="gimbal6_roll_module">
    <inertial>
      <mass value="0.275"/>
      <origin rpy="0 0 0" xyz="0.0145839 -0.0007152 -0.0219046"/>
      <inertia ixx="0.000456" ixy="0.000003" ixz="-0.000125" iyy="0.000504" iyz="-0.000009" izz="0.000157"/>
    </inertial>
    <visual>
      <origin rpy="0 0 0" xyz="0 0 0"/>
      <geometry>
        <mesh filename="roll_link.stl"/>
      </geometry>
    </visual>
    <collision name="gimbal6_roll_module">
      <origin rpy="0 0 0" xyz="0 0 0"/>
      <geometry>
        <mesh filename="roll_link.stl"/>
      </geometry>
    </collision>
  </link>
  <gazebo reference="gimbal6_roll_module">
    <mu1>0.2</mu1>
    <mu2>0.2</mu2>
  </gazebo>
  <gazebo reference="gimbal6_roll_module">
    <dampingFactor>0.00</dampingFactor>
  </gazebo>
    #### gimbal pitch ####
  <link name="gimbal6_pitch_module">
    <inertial>
      <mass value="0.434"/>
      <origin rpy="0 0 0" xyz="0.0000111 -0.0015087 -0.0010901"/>
      <inertia ixx="0.007595" ixy="0.000000" ixz="0.000000" iyy="0.000401" iyz="0.000010" izz="0.007781"/>
    </inertial>
    <visual>
      <origin rpy="0 0 0" xyz="0 0 0"/>
      <geometry>
        <mesh filename="pitch_link.stl"/>
      </geometry>
    </visual>
    <collision name="gimbal6_pitch_module">
      <origin rpy="0 0 0" xyz="0 0 0"/>
      <geometry>
        <mesh filename="pitch_link.stl"/>
      </geometry>
    </collision>
  </link>
  <gazebo reference="gimbal6_pitch_module">
    <mu1>0.2</mu1>
    <mu2>0.2</mu2>
  </gazebo>
  <gazebo reference="gimbal6_pitch_module">
    <dampingFactor>0.00</dampingFactor>
  </gazebo>
    #### thrust link (virtual) ####
  <link name="thrust6">
    <inertial>
      <origin rpy="0 0 0" xyz="0 0 0"/>
      <mass value="0.00001"/>
      <inertia ixx="0.000001" ixy="0.0" ixz="0.0" iyy="0.000001" iyz="0.0" izz="0.000001"/>
    </inertial>
  </link>
  <gazebo reference="thrust6">
    <dampingFactor>0.00</dampingFactor>
  </gazebo>
    #### special part of duct fun (temporary)####
  <joint name="edf6_left_mount" type="fixed">
    <child link="edf6_left"/>
    <parent link="gimbal6_pitch_module"/>
    <origin rpy="0 0 0" xyz="0 0.1335 0 "/>
    <axis xyz="0 0 1"/>
  </joint>
  <link name="edf6_left">
    <inertial>
      <origin rpy="0 0 0" xyz="0 0 0"/>
      <mass value="0.00001"/>
      <inertia ixx="0.000001" ixy="0.0" ixz="0.0" iyy="0.000001" iyz="0.0" izz="0.000002"/>
    </inertial>
  </link>
  <joint name="edf6_right_mount" type="fixed">
    <child link="edf6_right"/>
    <parent link="gimbal6_pitch_module"/>
    <origin rpy="0 0 0" xyz="0 -0.1335 0 "/>
    <axis xyz="0 0 1"/>
  </joint>
  <link name="edf6_right">
    <inertial>
      <origin rpy="0 0 0" xyz="0 0 0"/>
      <mass value="0.00001"/>
      <inertia ixx="0.000001" ixy="0.0" ixz="0.0" iyy="0.000001" iyz="0.0" izz="0.000002"/>
    </inertial>
  </link>
    #### joint junction ####
    #### joints ####
    #### link joint ####
    #### gimbal joint ####
  <joint name="gimbal6_roll" type="continuous">
    <limit effort="1.5" lower="-18.84955592153876" upper="18.84955592153876" velocity="10.0"/>
    <parent link="link6"/>
    <child link="gimbal6_roll_module"/>
    <origin rpy="0 0 0" xyz="0.268 0.0 0.0"/>
    <axis xyz="1 0 0"/>
    <dynamics damping="0.1" friction="0.0"/>
  </joint>
  <joint name="gimbal6_pitch" type="continuous">
    <limit effort="1.5" lower="-18.84955592153876" upper="18.84955592153876" velocity="10.0"/>
    <parent link="gimbal6_roll_module"/>
    <child link="gimbal6_pitch_module"/>
    <origin rpy="0 0 0" xyz="-0.0065 0.0 -0.027"/>
    <axis xyz="0 1 0"/>
    <dynamics damping="0.1" friction="0.0"/>
  </joint>
    #### rotor joint (virtual) ####
  <joint name="rotor6" type="continuous">
    <limit effort="100.0" lower="0" upper="36" velocity="0.5"/>
    <parent link="gimbal6_pitch_module"/>
    <child link="thrust6"/>
    <origin rpy="0 0 0" xyz="0 0 0"/>
    <axis xyz="0 0 1"/>
  </joint>
    #### battery ####
  <joint name="link62bat6" type="fixed">
    <parent link="link6"/>
    <child link="bat6"/>
    <origin rpy="-1.5707963267948966 0 0" xyz="0.410 0.0 -0.039"/>
  </joint>
  <link name="bat6">
    <inertial>
      <mass value="0.417"/>
      <origin rpy="0 0 0" xyz="-0.001 0.0 0.0"/>
      <inertia ixx="0.000099" ixy="0.000000" ixz="-0.000001" iyy="0.000700" iyz="0.000000" izz="0.000673"/>
    </inertial>
    <visual>
      <geometry>
        <mesh filename="ZIPPY-3000-25C-6S.stl"/>
      </geometry>
    </visual>
    <collision name="bat6">
      <geometry>
        <mesh filename="ZIPPY-3000-25C-6S.stl"/>
      </geometry>
    </collision>
  </link>
    #### end leg ####
    #### hardware interface ####
  <link name="link7">
    <inertial>
      <mass value="0.523"/>
      <origin rpy="0 0 0" xyz="0.257 -0.002 0.004"/>
      <inertia ixx="0.000519" ixy="-0.000246" ixz="0.001893" iyy="0.021290" iyz="-0.000044" izz="0.020931"/>
    </inertial>
    <visual>
      <origin rpy="0 0 0" xyz="0 0 0"/>
      <geometry>
        <mesh filename="general_link.stl"/>
      </geometry>
    </visual>
    <collision name="link7">
      <origin rpy="0 0 0" xyz="0 0 0"/>
      <geometry>
        <mesh filename="general_link.stl"/>
      </geometry>
    </collision>
  </link>
  <gazebo reference="link7">
    <mu1>0.2</mu1>
    <mu2>0.2</mu2>
  </gazebo>
  <gazebo reference="link7">
    <dampingFactor>0.00</dampingFactor>
  </gazebo>
    #### gimbal roll ####
  <link name="gimbal7_roll_module">
    <inertial>
      <mass value="0.275"/>
      <origin rpy="0 0 0" xyz="0.0145839 -0.0007152 -0.0219046"/>
      <inertia ixx="0.000456" ixy="0.000003" ixz="-0.000125" iyy="0.000504" iyz="-0.000009" izz="0.000157"/>
    </inertial>
    <visual>
      <origin rpy="0 0 0" xyz="0 0 0"/>
      <geometry>
        <mesh filename="roll_link.stl"/>
      </geometry>
    </visual>
    <collision name="gimbal7_roll_module">
      <origin rpy="0 0 0" xyz="0 0 0"/>
      <geometry>
        <mesh filename="roll_link.stl"/>
      </geometry>
    </collision>
  </link>
  <gazebo reference="gimbal7_roll_module">
    <mu1>0.2</mu1>
    <mu2>0.2</mu2>
  </gazebo>
  <gazebo reference="gimbal7_roll_module">
    <dampingFactor>0.00</dampingFactor>
  </gazebo>
    #### gimbal pitch ####
  <link name="gimbal7_pitch_module">
    <inertial>
      <mass value="0.434"/>
      <origin rpy="0 0 0" xyz="0.0000111 -0.0015087 -0.0010901"/>
      <inertia ixx="0.007595" ixy="0.000000" ixz="0.000000" iyy="0.000401" iyz="0.000010" izz="0.007781"/>
    </inertial>
    <visual>
      <origin rpy="0 0 0" xyz="0 0 0"/>
      <geometry>
        <mesh filename="pitch_link.stl"/>
      </geometry>
    </visual>
    <collision name="gimbal7_pitch_module">
      <origin rpy="0 0 0" xyz="0 0 0"/>
      <geometry>
        <mesh filename="pitch_link.stl"/>
      </geometry>
    </collision>
  </link>
  <gazebo reference="gimbal7_pitch_module">
    <mu1>0.2</mu1>
    <mu2>0.2</mu2>
  </gazebo>
  <gazebo reference="gimbal7_pitch_module">
    <dampingFactor>0.00</dampingFactor>
  </gazebo>
    #### thrust link (virtual) ####
  <link name="thrust7">
    <inertial>
      <origin rpy="0 0 0" xyz="0 0 0"/>
      <mass value="0.00001"/>
      <inertia ixx="0.000001" ixy="0.0" ixz="0.0" iyy="0.000001" iyz="0.0" izz="0.000001"/>
    </inertial>
  </link>
  <gazebo reference="thrust7">
    <dampingFactor>0.00</dampingFactor>
  </gazebo>
    #### special part of duct fun (temporary)####
  <joint name="edf7_left_mount" type="fixed">
    <child link="edf7_left"/>
    <parent link="gimbal7_pitch_module"/>
    <origin rpy="0 0 0" xyz="0 0.1335 0 "/>
    <axis xyz="0 0 1"/>
  </joint>
  <link name="edf7_left">
    <inertial>
      <origin rpy="0 0 0" xyz="0 0 0"/>
      <mass value="0.00001"/>
      <inertia ixx="0.000001" ixy="0.0" ixz="0.0" iyy="0.000001" iyz="0.0" izz="0.000002"/>
    </inertial>
  </link>
  <joint name="edf7_right_mount" type="fixed">
    <child link="edf7_right"/>
    <parent link="gimbal7_pitch_module"/>
    <origin rpy="0 0 0" xyz="0 -0.1335 0 "/>
    <axis xyz="0 0 1"/>
  </joint>
  <link name="edf7_right">
    <inertial>
      <origin rpy="0 0 0" xyz="0 0 0"/>
      <mass value="0.00001"/>
      <inertia ixx="0.000001" ixy="0.0" ixz="0.0" iyy="0.000001" iyz="0.0" izz="0.000002"/>
    </inertial>
  </link>
    #### joint junction ####
  <link name="joint_junction_link8">
    <inertial>
      <mass value="0.095"/>
      <origin rpy="0 0 0" xyz="0.026 0.004 0.004"/>
      <inertia ixx="0.000074" ixy="0.000009" ixz="-0.000009" iyy="0.000079" iyz="-0.000001" izz="0.000079"/>
    </inertial>
    <visual>
      <origin rpy="0 0 0" xyz="0 0 0"/>
      <geometry>
        <mesh filename="joint_junction_link.stl"/>
      </geometry>
    </visual>
    <collision name="joint_junction_link8">
      <origin rpy="0 0 0" xyz="0 0 0"/>
      <geometry>
        <mesh filename="joint_junction_link.stl"/>
      </geometry>
    </collision>
  </link>
  <gazebo reference="joint_junction_link8">
    <mu1>0.2</mu1>
    <mu2>0.2</mu2>
  </gazebo>
  <gazebo reference="joint_junction_link8">
    <dampingFactor>0.00</dampingFactor>
  </gazebo>
  <joint name="joint8_pitch" type="revolute">
    <limit effort="6.6" lower="-1.9107963267948966" upper="1.9107963267948966" velocity="0.1"/>
    <parent link="joint_junction_link8"/>
    <child link="link8"/>
    <origin rpy="0 0 0" xyz="0.0515 0.0 0.0"/>
    <axis xyz="0 1 0"/>
    <dynamics damping="0.9" friction="0.0"/>
  </joint>
  <joint name="joint_junction_link82joint_junction_leg8" type="fixed">
    <parent link="joint_junction_link8"/>
    <child link="joint_junction_leg8"/>
    <origin rpy="0 0 1.5707963267948966" xyz="0 0 -0.0283"/>
  </joint>
  <link name="joint_junction_leg8">
    <inertial>
      <mass value="0.027"/>
      <origin rpy="0 0 0" xyz="0 0 -0.046"/>
      <inertia ixx="0.000029" ixy="0.000000" ixz="0.000000" iyy="0.000029" iyz="0.000000" izz="0.000002"/>
    </inertial>
    <visual>
      <geometry>
        <mesh filename="long_leg.stl"/>
      </geometry>
    </visual>
    <collision name="joint_junction_leg8">
      <geometry>
        <mesh filename="long_leg.stl"/>
      </geometry>
    </collision>
  </link>
  <gazebo reference="joint_junction_leg8">
    <mu1>100</mu1>
    <mu2>50</mu2>
  </gazebo>
    #### joints ####
    #### link joint ####
  <joint name="joint8_yaw" type="revolute">
    <limit effort="6.6" lower="-1.9107963267948966" upper="1.9107963267948966" velocity="0.1"/>
    <parent link="link7"/>
    <child link="joint_junction_link8"/>
    <origin rpy="0 0 0" xyz="0.523 0 0"/>
    <axis xyz="0 0 1"/>
    <dynamics damping="0.9" friction="0.0"/>
  </joint>
    #### gimbal joint ####
  <joint name="gimbal7_roll" type="continuous">
    <limit effort="1.5" lower="-18.84955592153876" upper="18.84955592153876" velocity="10.0"/>
    <parent link="link7"/>
    <child link="gimbal7_roll_module"/>
    <origin rpy="0 0 0" xyz="0.268 0.0 0.0"/>
    <axis xyz="1 0 0"/>
    <dynamics damping="0.1" friction="0.0"/>
  </joint>
  <joint name="gimbal7_pitch" type="continuous">
    <limit effort="1.5" lower="-18.84955592153876" upper="18.84955592153876" velocity="10.0"/>
    <parent link="gimbal7_roll_module"/>
    <child link="gimbal7_pitch_module"/>
    <origin rpy="0 0 0" xyz="-0.0065 0.0 -0.027"/>
    <axis xyz="0 1 0"/>
    <dynamics damping="0.1" friction="0.0"/>
  </joint>
    #### rotor joint (virtual) ####
  <joint name="rotor7" type="continuous">
    <limit effort="100.0" lower="0" upper="36" velocity="0.5"/>
    <parent link="gimbal7_pitch_module"/>
    <child link="thrust7"/>
    <origin rpy="0 0 0" xyz="0 0 0"/>
    <axis xyz="0 0 1"/>
  </joint>
    #### battery ####
  <joint name="link72bat7" type="fixed">
    <parent link="link7"/>
    <child link="bat7"/>
    <origin rpy="-1.5707963267948966 0 0" xyz="0.430 0.0 -0.039"/>
  </joint>
  <link name="bat7">
    <inertial>
      <mass value="0.417"/>
      <origin rpy="0 0 0" xyz="-0.001 0.0 0.0"/>
      <inertia ixx="0.000099" ixy="0.000000" ixz="-0.000001" iyy="0.000700" iyz="0.000000" izz="0.000673"/>
    </inertial>
    <visual>
      <geometry>
        <mesh filename="ZIPPY-3000-25C-6S.stl"/>
      </geometry>
    </visual>
    <collision name="bat7">
      <geometry>
        <mesh filename="ZIPPY-3000-25C-6S.stl"/>
      </geometry>
    </collision>
  </link>
    #### end leg ####
    #### hardware interface ####
  <link name="link8">
    <inertial>
      <mass value="0.347"/>
      <origin rpy="0 0 0" xyz="0.157 0.015 0"/>
      <inertia ixx="0.000276" ixy="-0.000606" ixz="-0.000031" iyy="0.008551" iyz="0.000001" izz="0.008772"/>
    </inertial>
    <visual>
      <origin rpy="0 0 0" xyz="0 0 0"/>
      <geometry>
        <mesh filename="end_link.stl"/>
      </geometry>
    </visual>
    <collision name="link8">
      <origin rpy="0 0 0" xyz="0 0 0"/>
      <geometry>
        <mesh filename="end_link.stl"/>
      </geometry>
    </collision>
  </link>
  <gazebo reference="link8">
    <mu1>0.2</mu1>
    <mu2>0.2</mu2>
  </gazebo>
  <gazebo reference="link8">
    <dampingFactor>0.00</dampingFactor>
  </gazebo>
    #### gimbal roll ####
  <link name="gimbal8_roll_module">
    <inertial>
      <mass value="0.275"/>
      <origin rpy="0 0 0" xyz="0.0145839 -0.0007152 -0.0219046"/>
      <inertia ixx="0.000456" ixy="0.000003" ixz="-0.000125" iyy="0.000504" iyz="-0.000009" izz="0.000157"/>
    </inertial>
    <visual>
      <origin rpy="0 0 0" xyz="0 0 0"/>
      <geometry>
        <mesh filename="roll_link.stl"/>
      </geometry>
    </visual>
    <collision name="gimbal8_roll_module">
      <origin rpy="0 0 0" xyz="0 0 0"/>
      <geometry>
        <mesh filename="roll_link.stl"/>
      </geometry>
    </collision>
  </link>
  <gazebo reference="gimbal8_roll_module">
    <mu1>0.2</mu1>
    <mu2>0.2</mu2>
  </gazebo>
  <gazebo reference="gimbal8_roll_module">
    <dampingFactor>0.00</dampingFactor>
  </gazebo>
    #### gimbal pitch ####
  <link name="gimbal8_pitch_module">
    <inertial>
      <mass value="0.434"/>
      <origin rpy="0 0 0" xyz="0.0000111 -0.0015087 -0.0010901"/>
      <inertia ixx="0.007595" ixy="0.000000" ixz="0.000000" iyy="0.000401" iyz="0.000010" izz="0.007781"/>
    </inertial>
    <visual>
      <origin rpy="0 0 0" xyz="0 0 0"/>
      <geometry>
        <mesh filename="pitch_link.stl"/>
      </geometry>
    </visual>
    <collision name="gimbal8_pitch_module">
      <origin rpy="0 0 0" xyz="0 0 0"/>
      <geometry>
        <mesh filename="pitch_link.stl"/>
      </geometry>
    </collision>
  </link>
  <gazebo reference="gimbal8_pitch_module">
    <mu1>0.2</mu1>
    <mu2>0.2</mu2>
  </gazebo>
  <gazebo reference="gimbal8_pitch_module">
    <dampingFactor>0.00</dampingFactor>
  </gazebo>
    #### thrust link (virtual) ####
  <link name="thrust8">
    <inertial>
      <origin rpy="0 0 0" xyz="0 0 0"/>
      <mass value="0.00001"/>
      <inertia ixx="0.000001" ixy="0.0" ixz="0.0" iyy="0.000001" iyz="0.0" izz="0.000001"/>
    </inertial>
  </link>
  <gazebo reference="thrust8">
    <dampingFactor>0.00</dampingFactor>
  </gazebo>
    #### special part of duct fun (temporary)####
  <joint name="edf8_left_mount" type="fixed">
    <child link="edf8_left"/>
    <parent link="gimbal8_pitch_module"/>
    <origin rpy="0 0 0" xyz="0 0.1335 0 "/>
    <axis xyz="0 0 1"/>
  </joint>
  <link name="edf8_left">
    <inertial>
      <origin rpy="0 0 0" xyz="0 0 0"/>
      <mass value="0.00001"/>
      <inertia ixx="0.000001" ixy="0.0" ixz="0.0" iyy="0.000001" iyz="0.0" izz="0.000002"/>
    </inertial>
  </link>
  <joint name="edf8_right_mount" type="fixed">
    <child link="edf8_right"/>
    <parent link="gimbal8_pitch_module"/>
    <origin rpy="0 0 0" xyz="0 -0.1335 0 "/>
    <axis xyz="0 0 1"/>
  </joint>
  <link name="edf8_right">
    <inertial>
      <origin rpy="0 0 0" xyz="0 0 0"/>
      <mass value="0.00001"/>
      <inertia ixx="0.000001" ixy="0.0" ixz="0.0" iyy="0.000001" iyz="0.0" izz="0.000002"/>
    </inertial>
  </link>
    #### joint junction ####
    #### joints ####
    #### link joint ####
    #### gimbal joint ####
  <joint name="gimbal8_roll" type="continuous">
    <limit effort="1.5" lower="-18.84955592153876" upper="18.84955592153876" velocity="10.0"/>
    <parent link="link8"/>
    <child link="gimbal8_roll_module"/>
    <origin rpy="0 0 0" xyz="0.268 0.0 0.0"/>
    <axis xyz="1 0 0"/>
    <dynamics damping="0.1" friction="0.0"/>
  </joint>
  <joint name="gimbal8_pitch" type="continuous">
    <limit effort="1.5" lower="-18.84955592153876" upper="18.84955592153876" velocity="10.0"/>
    <parent link="gimbal8_roll_module"/>
    <child link="gimbal8_pitch_module"/>
    <origin rpy="0 0 0" xyz="-0.0065 0.0 -0.027"/>
    <axis xyz="0 1 0"/>
    <dynamics damping="0.1" friction="0.0"/>
  </joint>
    #### rotor joint (virtual) ####
  <joint name="rotor8" type="continuous">
    <limit effort="100.0" lower="0" upper="36" velocity="0.5"/>
    <parent link="gimbal8_pitch_module"/>
    <child link="thrust8"/>
    <origin rpy="0 0 0" xyz="0 0 0"/>
    <axis xyz="0 0 1"/>
  </joint>
    #### battery ####
  <joint name="link82bat8" type="fixed">
    <parent link="link8"/>
    <child link="bat8"/>
    <origin rpy="-1.5707963267948966 0 0" xyz="0.410 0.0 -0.039"/>
  </joint>
  <link name="bat8">
    <inertial>
      <mass value="0.417"/>
      <origin rpy="0 0 0" xyz="-0.001 0.0 0.0"/>
      <inertia ixx="0.000099" ixy="0.000000" ixz="-0.000001" iyy="0.000700" iyz="0.000000" izz="0.000673"/>
    </inertial>
    <visual>
      <geometry>
        <mesh filename="ZIPPY-3000-25C-6S.stl"/>
      </geometry>
    </visual>
    <collision name="bat8">
      <geometry>
        <mesh filename="ZIPPY-3000-25C-6S.stl"/>
      </geometry>
    </collision>
  </link>
    #### end leg ####
    #### hardware interface ####
  <joint name="center_link2fc" type="fixed">
    <parent link="center_link"/>
    <child link="fc"/>
    <origin rpy="0 0 0" xyz="-0.0129 -0.0044 0.0398284"/>
  </joint>
  <link name="fc">
    <inertial>
      <mass value="0.0354160"/>
      <origin rpy="0 0 0" xyz="0.0128576 0.0044678 -0.0226530"/>
      <inertia ixx="0.0000225" ixy="-0.0000001" ixz="0.0000000" iyy="0.0000225" iyz="0.0000000" izz="0.0000346"/>
    </inertial>
    <visual>
      <geometry>
        <mesh filename="spinal.stl"/>
      </geometry>
    </visual>
    <collision name="fc">
      <geometry>
        <mesh filename="spinal.stl"/>
      </geometry>
    </collision>
  </link>
  <joint name="center_link2pc" type="fixed">
    <parent link="center_link"/>
    <child link="pc"/>
    <origin rpy="1.5707963267948966 0 0" xyz="0 0.089888 0.002"/>
  </joint>
  <link name="pc">
    <inertial>
      <mass value="0.1411331"/>
      <origin rpy="0 0 0" xyz="0.0008915 0.0304136 0.0271590"/>
      <inertia ixx="0.0000768" ixy="0.0000018" ixz="-0.0000024" iyy="0.0001380" iyz="0.0000071" izz="0.0001493"/>
    </inertial>
  </link>
  <joint name="link22link2_foot" type="fixed">
    <parent link="link2"/>
    <child link="link2_foot"/>
    <origin rpy="0 0 0" xyz="0.5115 0 0"/>
    <limit effort="100" lower="0" upper="0" velocity="100"/>
    <axis xyz="0 0 1"/>
  </joint>
  <link name="link2_foot">
    <inertial>
      <mass value="0.09"/>
      <origin rpy="0 0 0" xyz="0.007 0 0"/>
      <inertia ixx="0.000055" ixy="0" ixz="0" iyy="0.000047" iyz="0" izz="0.000055"/>
    </inertial>
    <visual>
      <origin rpy="0 0 0" xyz="0 0 0"/>
      <geometry>
        <mesh filename="leg_cap.stl"/>
      </geometry>
    </visual>
    <collision name="link2_foot">
      <origin rpy="0 0 0" xyz="0 0 0"/>
      <geometry>
        <mesh filename="leg_cap.stl"/>
      </geometry>
    </collision>
  </link>
  <gazebo reference="link2_foot">
    <mu1>0</mu1>
    <mu2>0</mu2>
  </gazebo>
  <joint name="link42link4_foot" type="fixed">
    <parent link="link4"/>
    <child link="link4_foot"/>
    <origin rpy="0 0 0" xyz="0.5115 0 0"/>
    <limit effort="100" lower="0" upper="0" velocity="100"/>
    <axis xyz="0 0 1"/>
  </joint>
  <link name="link4_foot">
    <inertial>
      <mass value="0.09"/>
      <origin rpy="0 0 0" xyz="0.007 0 0"/>
      <inertia ixx="0.000055" ixy="0" ixz="0" iyy="0.000047" iyz="0" izz="0.000055"/>
    </inertial>
    <visual>
      <origin rpy="0 0 0" xyz="0 0 0"/>
      <geometry>
        <mesh filename="leg_cap.stl"/>
      </geometry>
    </visual>
    <collision name="link4_foot">
      <origin rpy="0 0 0" xyz="0 0 0"/>
      <geometry>
        <mesh filename="leg_cap.stl"/>
      </geometry>
    </collision>
  </link>
  <gazebo reference="link4_foot">
    <mu1>0</mu1>
    <mu2>0</mu2>
  </gazebo>
  <joint name="link62link6_foot" type="fixed">
    <parent link="link6"/>
    <child link="link6_foot"/>
    <origin rpy="0 0 0" xyz="0.5115 0 0"/>
    <limit effort="100" lower="0" upper="0" velocity="100"/>
    <axis xyz="0 0 1"/>
  </joint>
  <link name="link6_foot">
    <inertial>
      <mass value="0.09"/>
      <origin rpy="0 0 0" xyz="0.007 0 0"/>
      <inertia ixx="0.000055" ixy="0" ixz="0" iyy="0.000047" iyz="0" izz="0.000055"/>
    </inertial>
    <visual>
      <origin rpy="0 0 0" xyz="0 0 0"/>
      <geometry>
        <mesh filename="leg_cap.stl"/>
      </geometry>
    </visual>
    <collision name="link6_foot">
      <origin rpy="0 0 0" xyz="0 0 0"/>
      <geometry>
        <mesh filename="leg_cap.stl"/>
      </geometry>
    </collision>
  </link>
  <gazebo reference="link6_foot">
    <mu1>0</mu1>
    <mu2>0</mu2>
  </gazebo>
  <joint name="link82link8_foot" type="fixed">
    <parent link="link8"/>
    <child link="link8_foot"/>
    <origin rpy="0 0 0" xyz="0.5115 0 0"/>
    <limit effort="100" lower="0" upper="0" velocity="100"/>
    <axis xyz="0 0 1"/>
  </joint>
  <link name="link8_foot">
    <inertial>
      <mass value="0.09"/>
      <origin rpy="0 0 0" xyz="0.007 0 0"/>
      <inertia ixx="0.000055" ixy="0" ixz="0" iyy="0.000047" iyz="0" izz="0.000055"/>
    </inertial>
    <visual>
      <origin rpy="0 0 0" xyz="0 0 0"/>
      <geometry>
        <mesh filename="leg_cap.stl"/>
      </geometry>
    </visual>
    <collision name="link8_foot">
      <origin rpy="0 0 0" xyz="0 0 0"/>
      <geometry>
        <mesh filename="leg_cap.stl"/>
      </geometry>
    </collision>
  </link>
  <gazebo reference="link8_foot">
    <mu1>0</mu1>
    <mu2>0</mu2>
  </gazebo>
  <mujoco>
    <compiler balanceinertia="true"/>
    <option/>
  </mujoco>
</robot>
